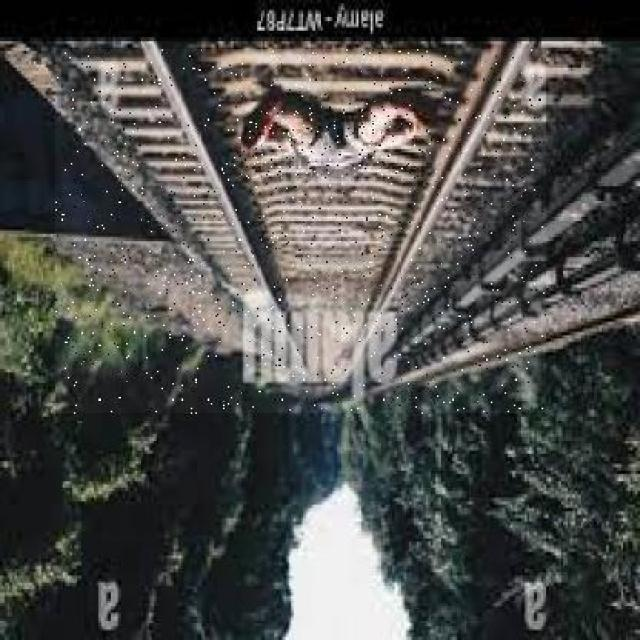rail: (56, 50, 547, 414)
